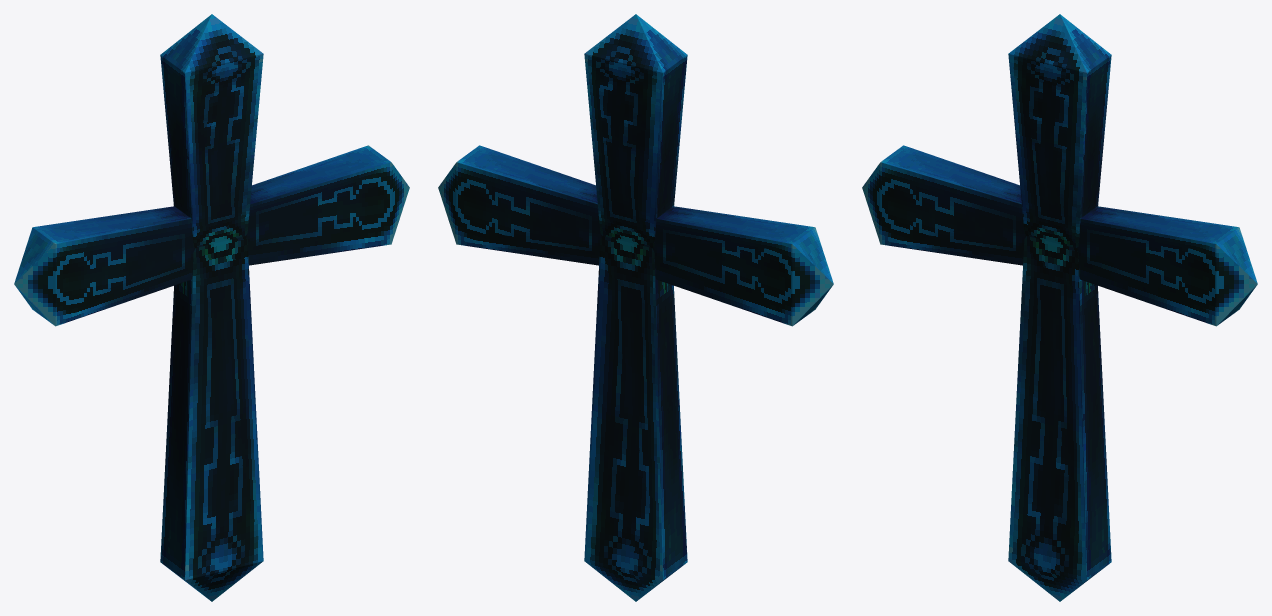
File: shizijia.fbx
The picture shows the model from 3 angles, left to right: view 1: azimuth 30°, elevation 25°; view 2: azimuth 150°, elevation 25°; view 3: azimuth 330°, elevation 25°; orthographic projection.
Parts seen in each view (by area): view 1: shizijia; view 2: shizijia; view 3: shizijia.
Boxes of the visible parts, x1,y1,x2,y2 form: shizijia: (14,14,409,601); shizijia: (438,14,833,601); shizijia: (862,14,1257,601).
Size of the model in its own units: 75.51 by 107 by 8.16.
